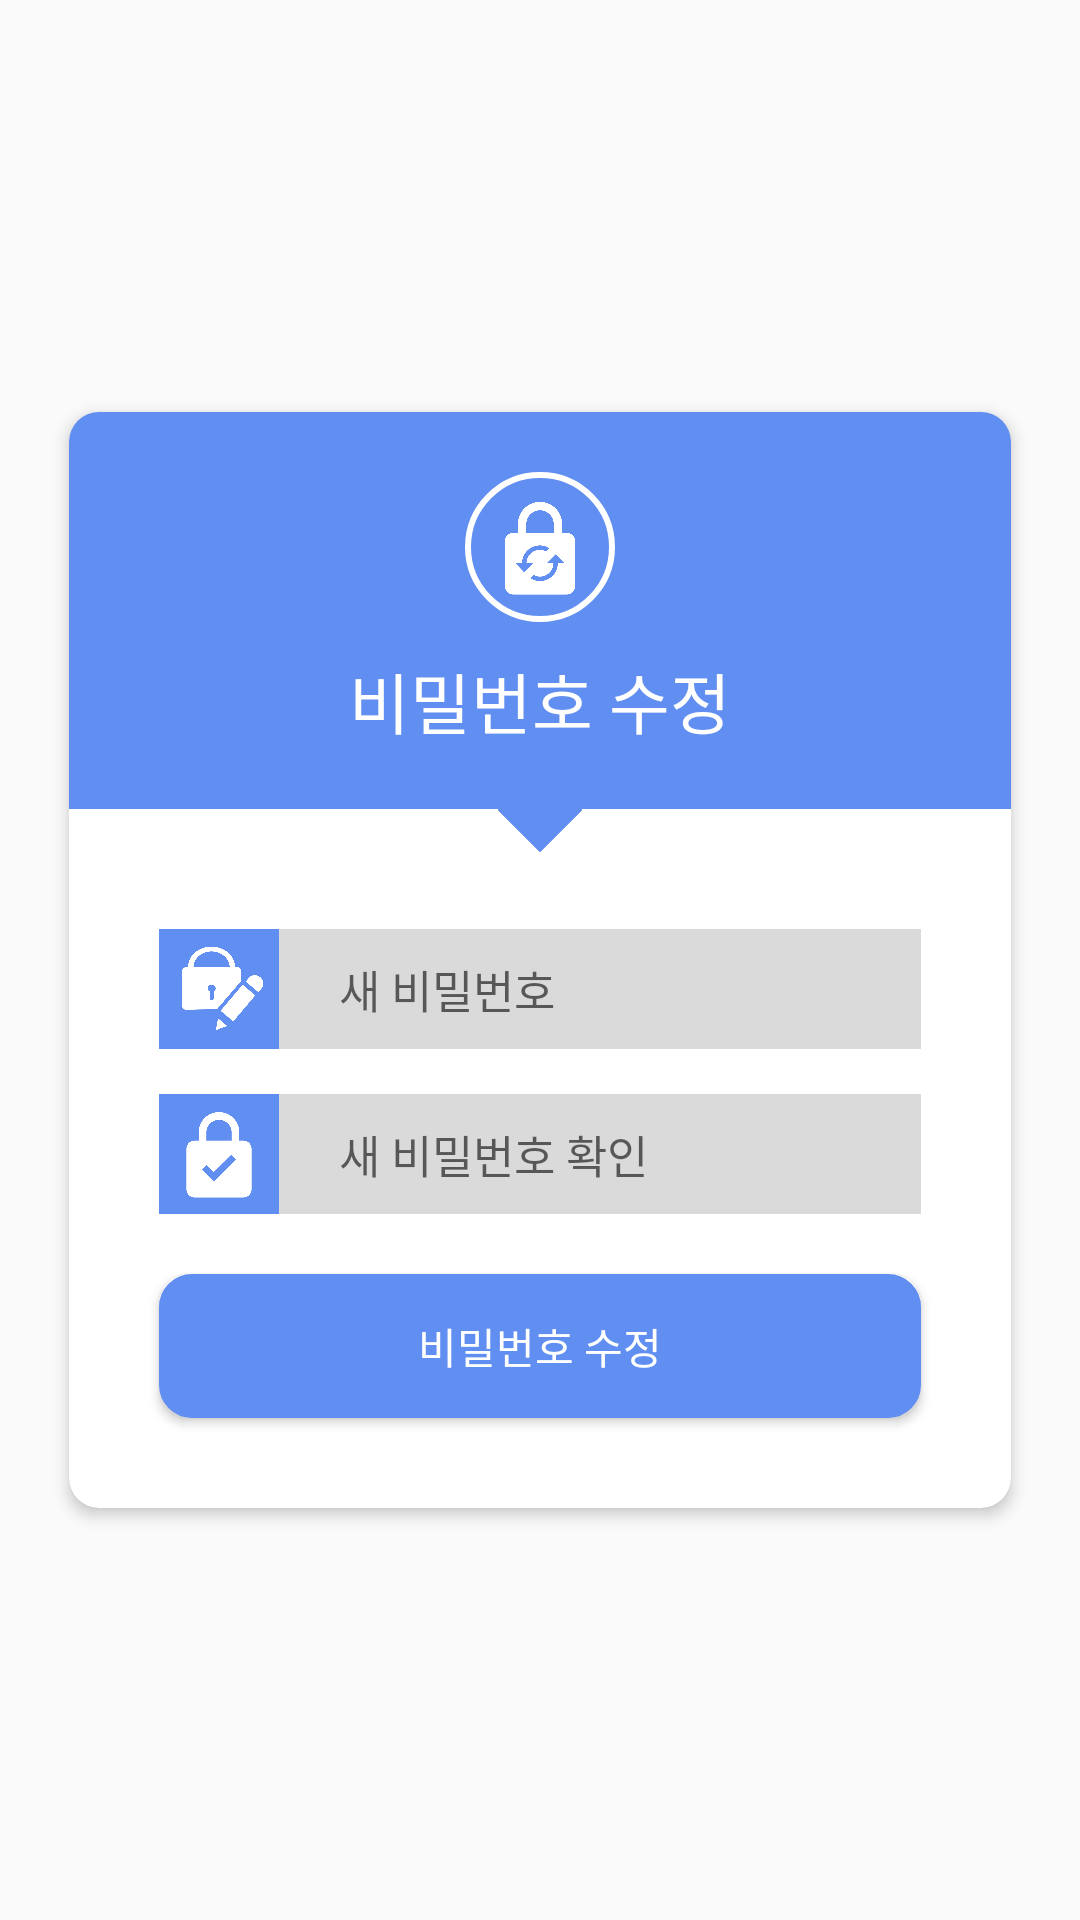

Screen size 1080w x 1920h. Icon name, then its box in pixels as (x1, y1, x2, y2):
checkpw: (159, 1094, 279, 1214)
modifypw: (465, 472, 615, 622)
newpw: (159, 929, 279, 1049)
